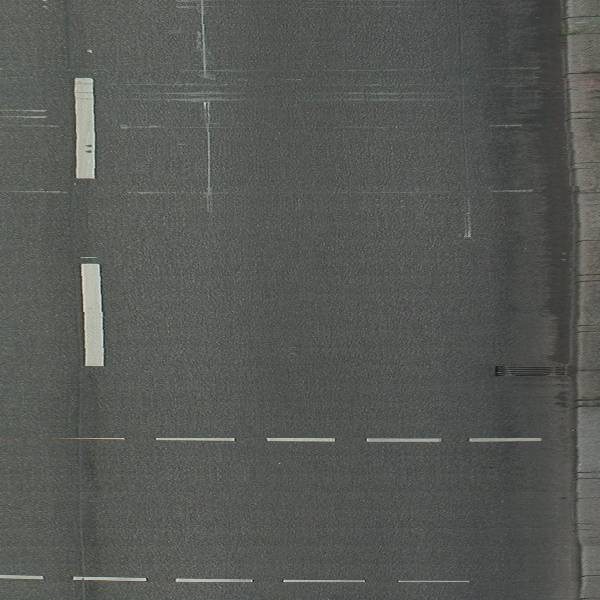road_damage: (127, 66, 258, 112), (165, 87, 482, 104), (203, 1, 218, 218)
